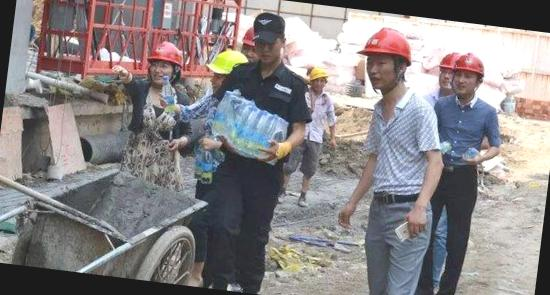no_helmet: (246, 8, 294, 71)
